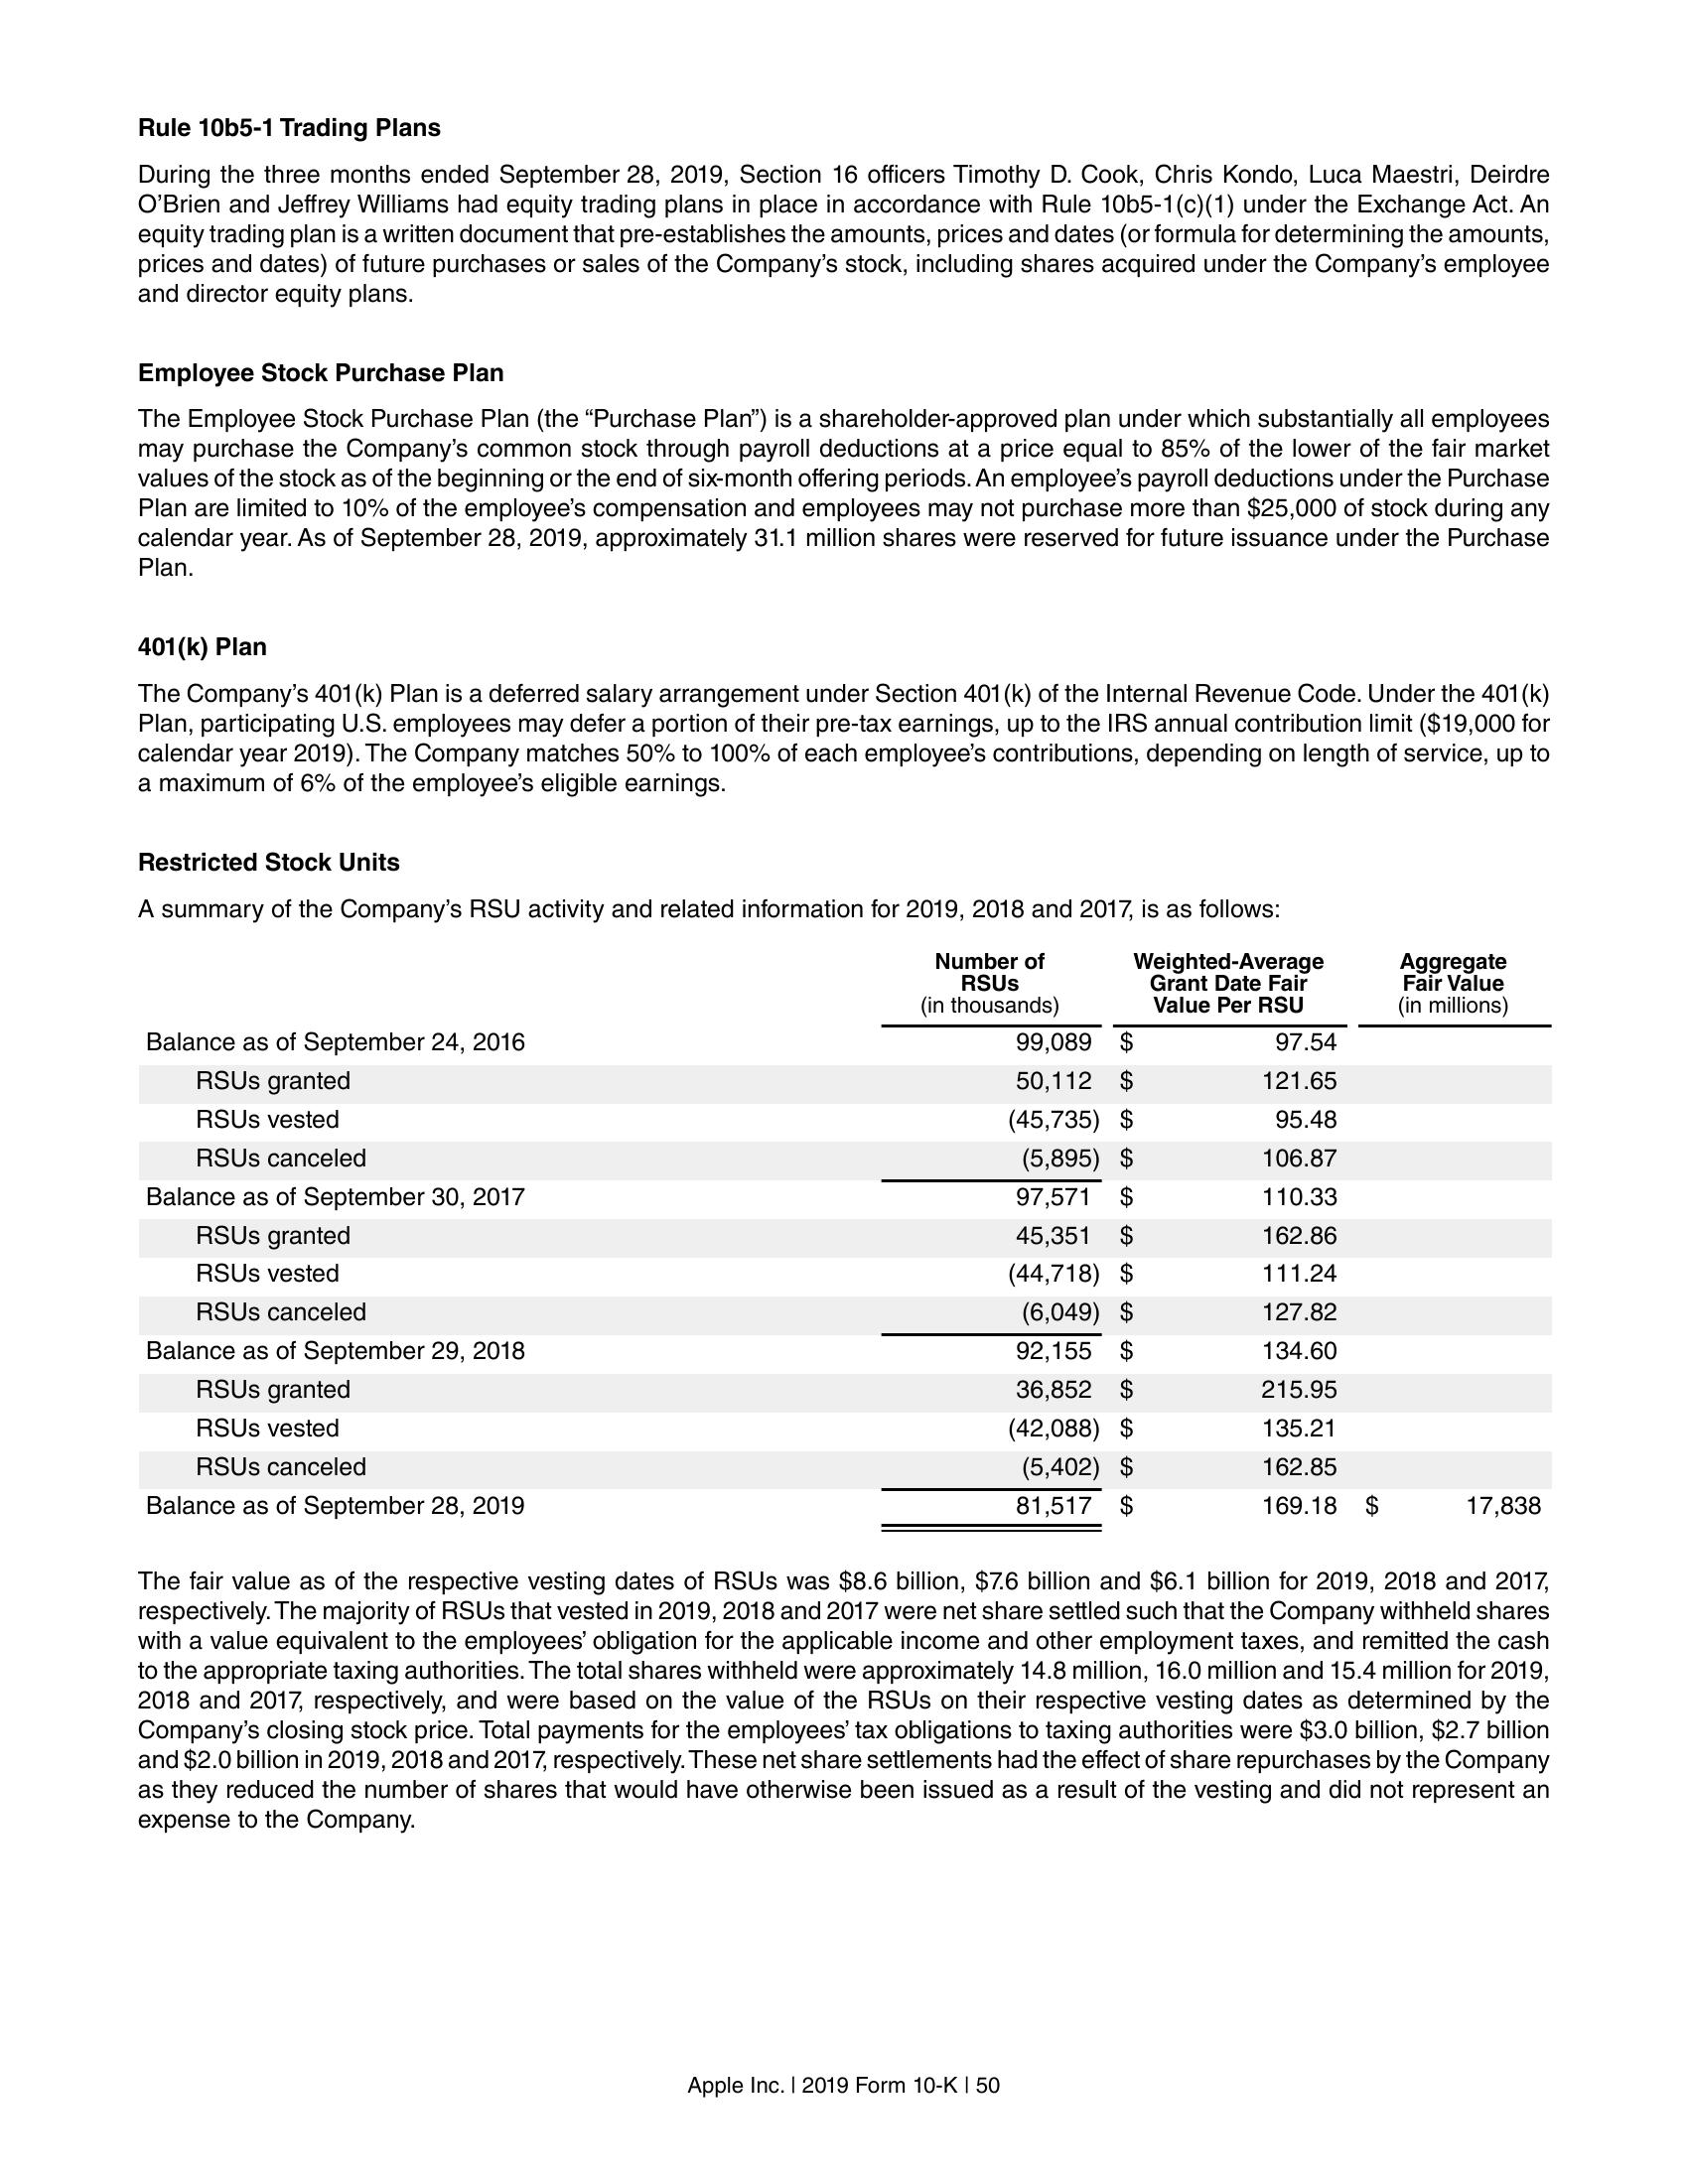table: (142, 948, 1550, 1526)
